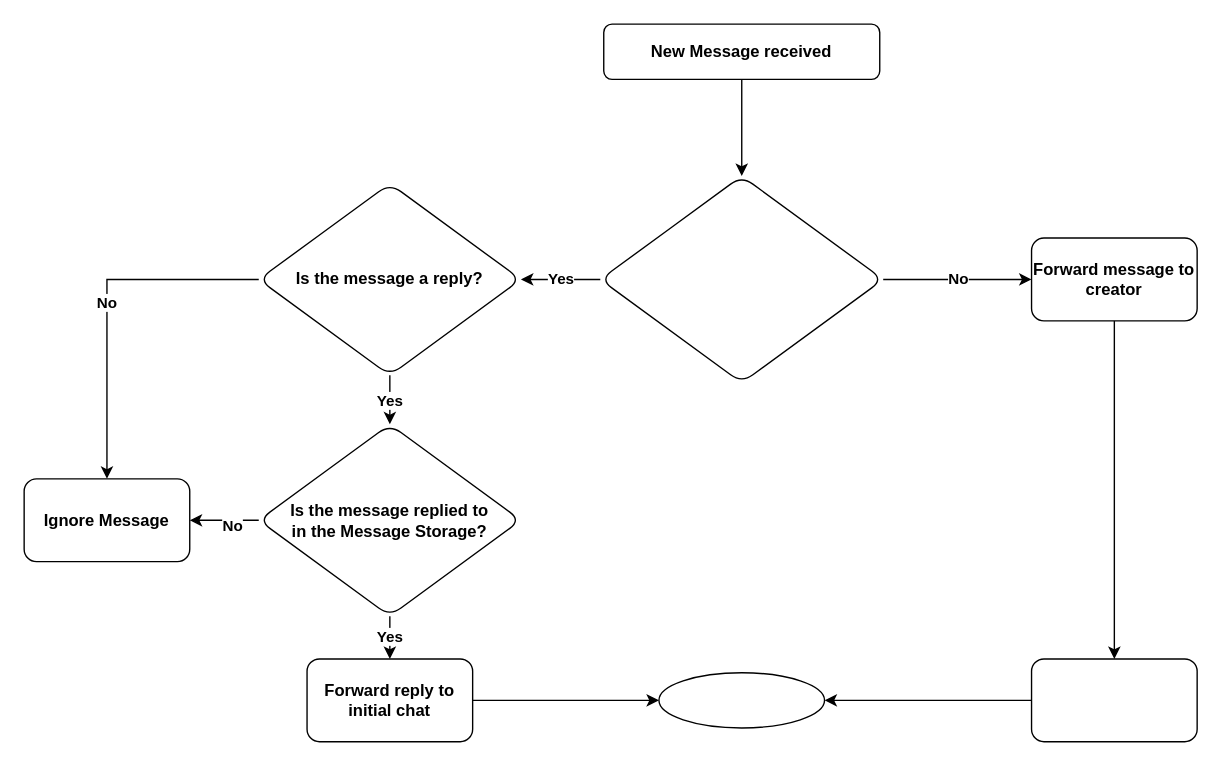
Image size: 1221x766. Some labels were removed from this diagram. Here are the shapes that lost their labels. From the top down, the centre of each, then its label:
At pixel 741 279: "Is the message send in the private creator chat?".
At pixel 741 699: "End".
At pixel 1113 700: "Save Message metadata in storage".
